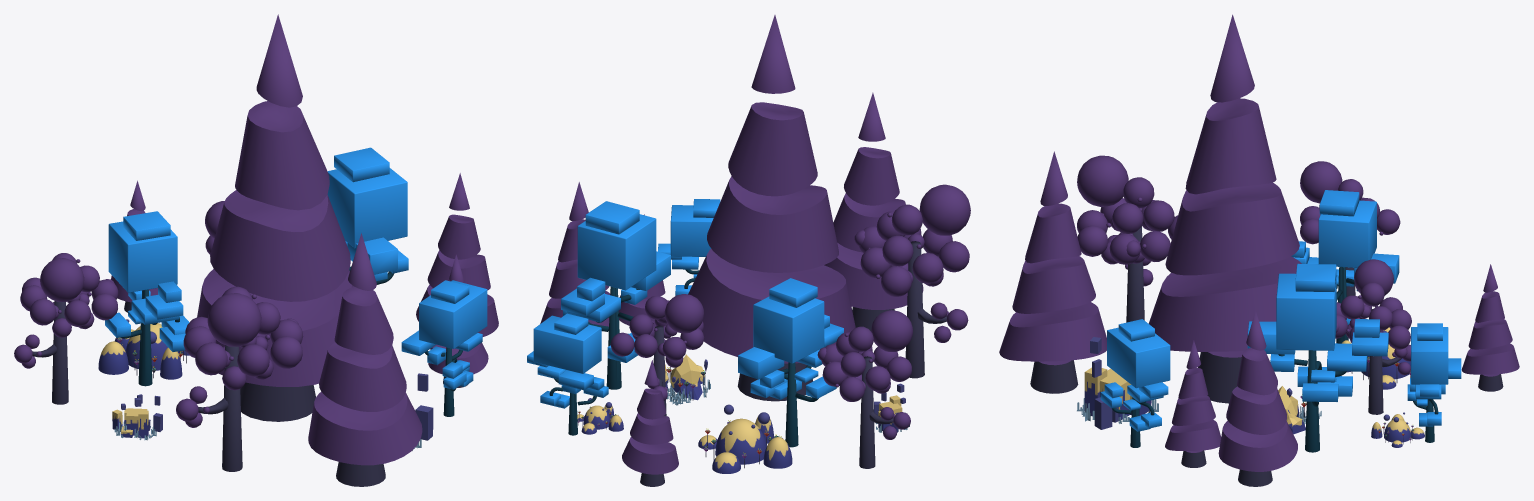
Rendered from nature_cluster_2.glb.
The picture shows the model from 3 angles, left to right: view 1: azimuth 30°, elevation 25°; view 2: azimuth 150°, elevation 25°; view 3: azimuth 270°, elevation 25°; orthographic projection. The views are drawn at different scales.
Parts seen in each view (by area): view 1: Circle_Tree_2.008; view 2: Circle_Tree_2.008; view 3: Circle_Tree_2.008.
Part boxes in pixels (x1=…): Circle_Tree_2.008: x1=14, y1=14, x2=498, y2=486; Circle_Tree_2.008: x1=527, y1=15, x2=970, y2=486; Circle_Tree_2.008: x1=999, y1=14, x2=1519, y2=486.
Bounding box in the file's own units: 72.68 × 63.48 × 79.46.
14 materials, 3 textured.
